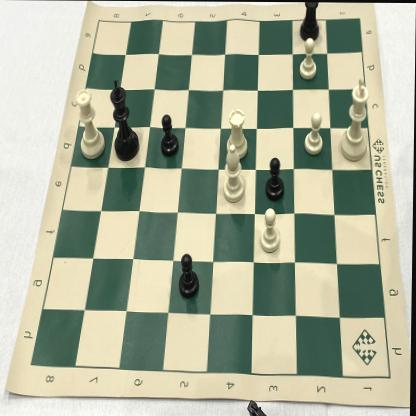black-king: (106, 74, 144, 164)
black-pawn: (176, 249, 204, 301), (264, 153, 288, 205), (158, 108, 182, 160)
black-rook: (296, 2, 324, 45)
white-bishop: (219, 143, 248, 208)
white-king: (336, 71, 374, 163)
white-pawn: (256, 205, 286, 257), (300, 110, 328, 161), (295, 38, 321, 84)
white-queen: (73, 82, 107, 162)
white-rook: (223, 101, 250, 161)
